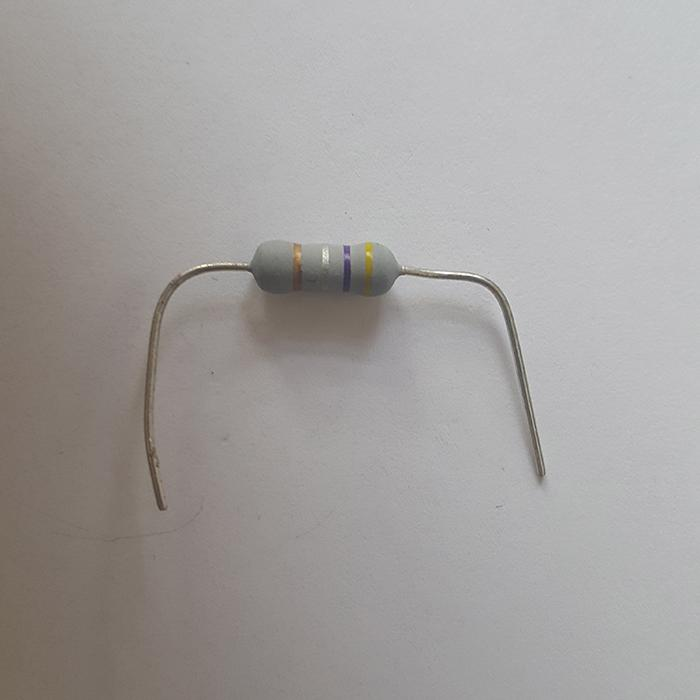resistor: (251, 238, 403, 295)
